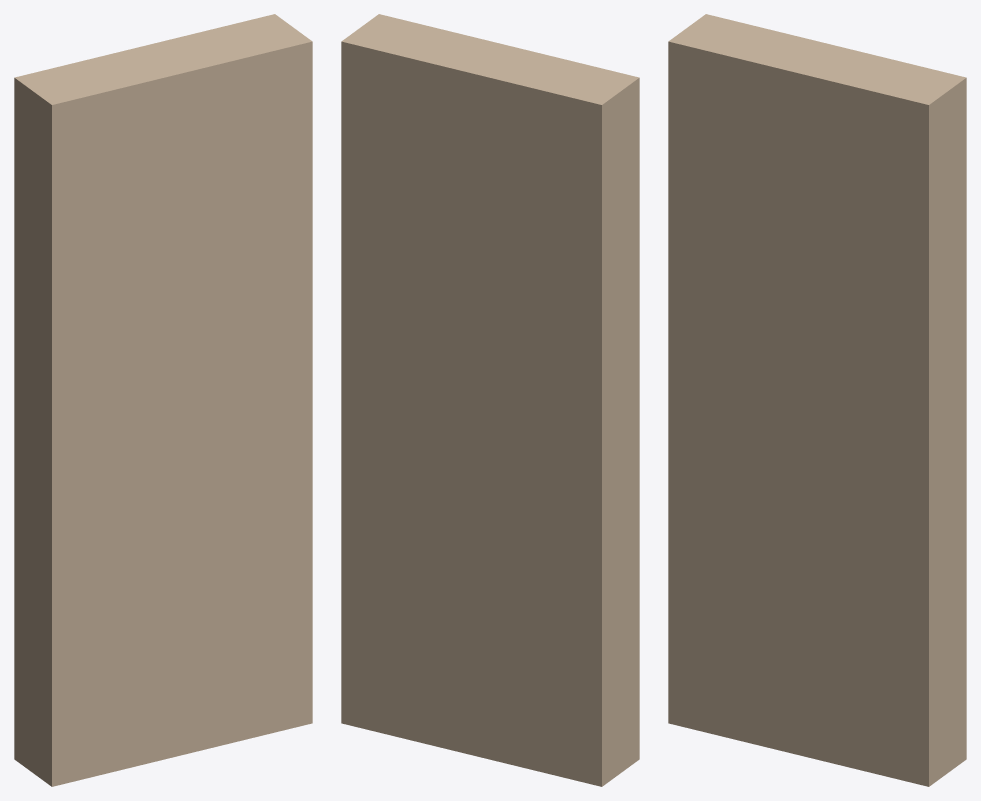
Rendered from room_walls_mesh_02_25cm.fbx.
3 renders of one model, left to right at view 1: azimuth 30°, elevation 25°; view 2: azimuth 150°, elevation 25°; view 3: azimuth 330°, elevation 25°, orthographic.
Parts seen in each view (by area): view 1: pPlane517; view 2: pPlane517; view 3: pPlane517.
Boxes of the visible parts, x1=… form: pPlane517: x1=14, y1=14, x2=312, y2=786; pPlane517: x1=341, y1=14, x2=639, y2=786; pPlane517: x1=668, y1=14, x2=966, y2=786.
Bounding box in the file's own units: 100 × 250 × 25.
